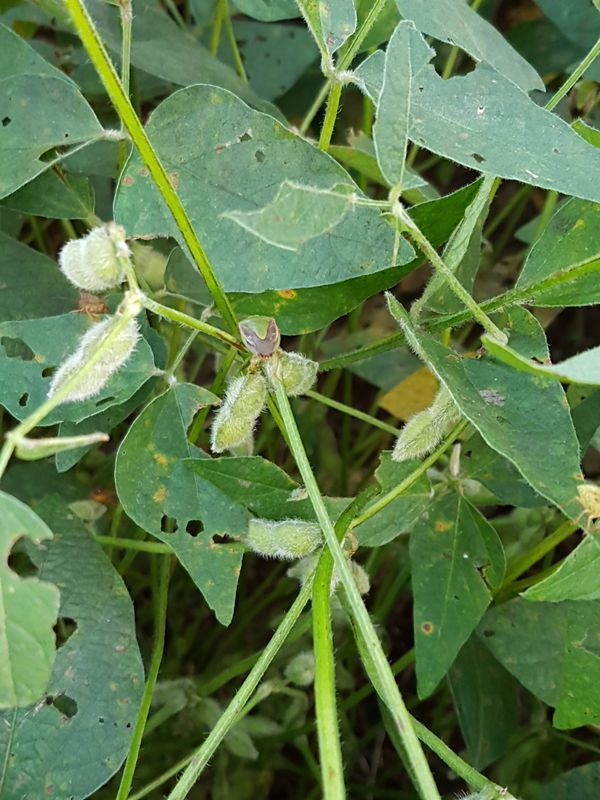Edessa_meditabunda: (224, 298, 294, 375)
